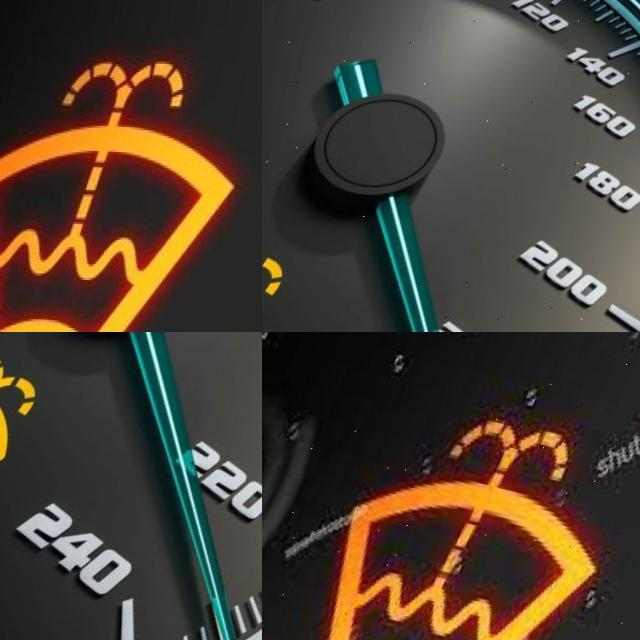Washer Fluid: (0, 53, 262, 332), (318, 413, 639, 640), (0, 347, 61, 480), (262, 227, 308, 332)
